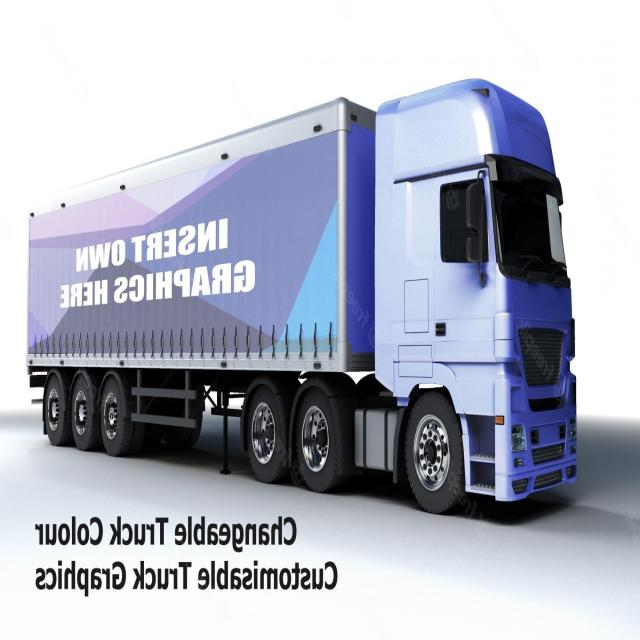Truck: (26, 76, 579, 516)
